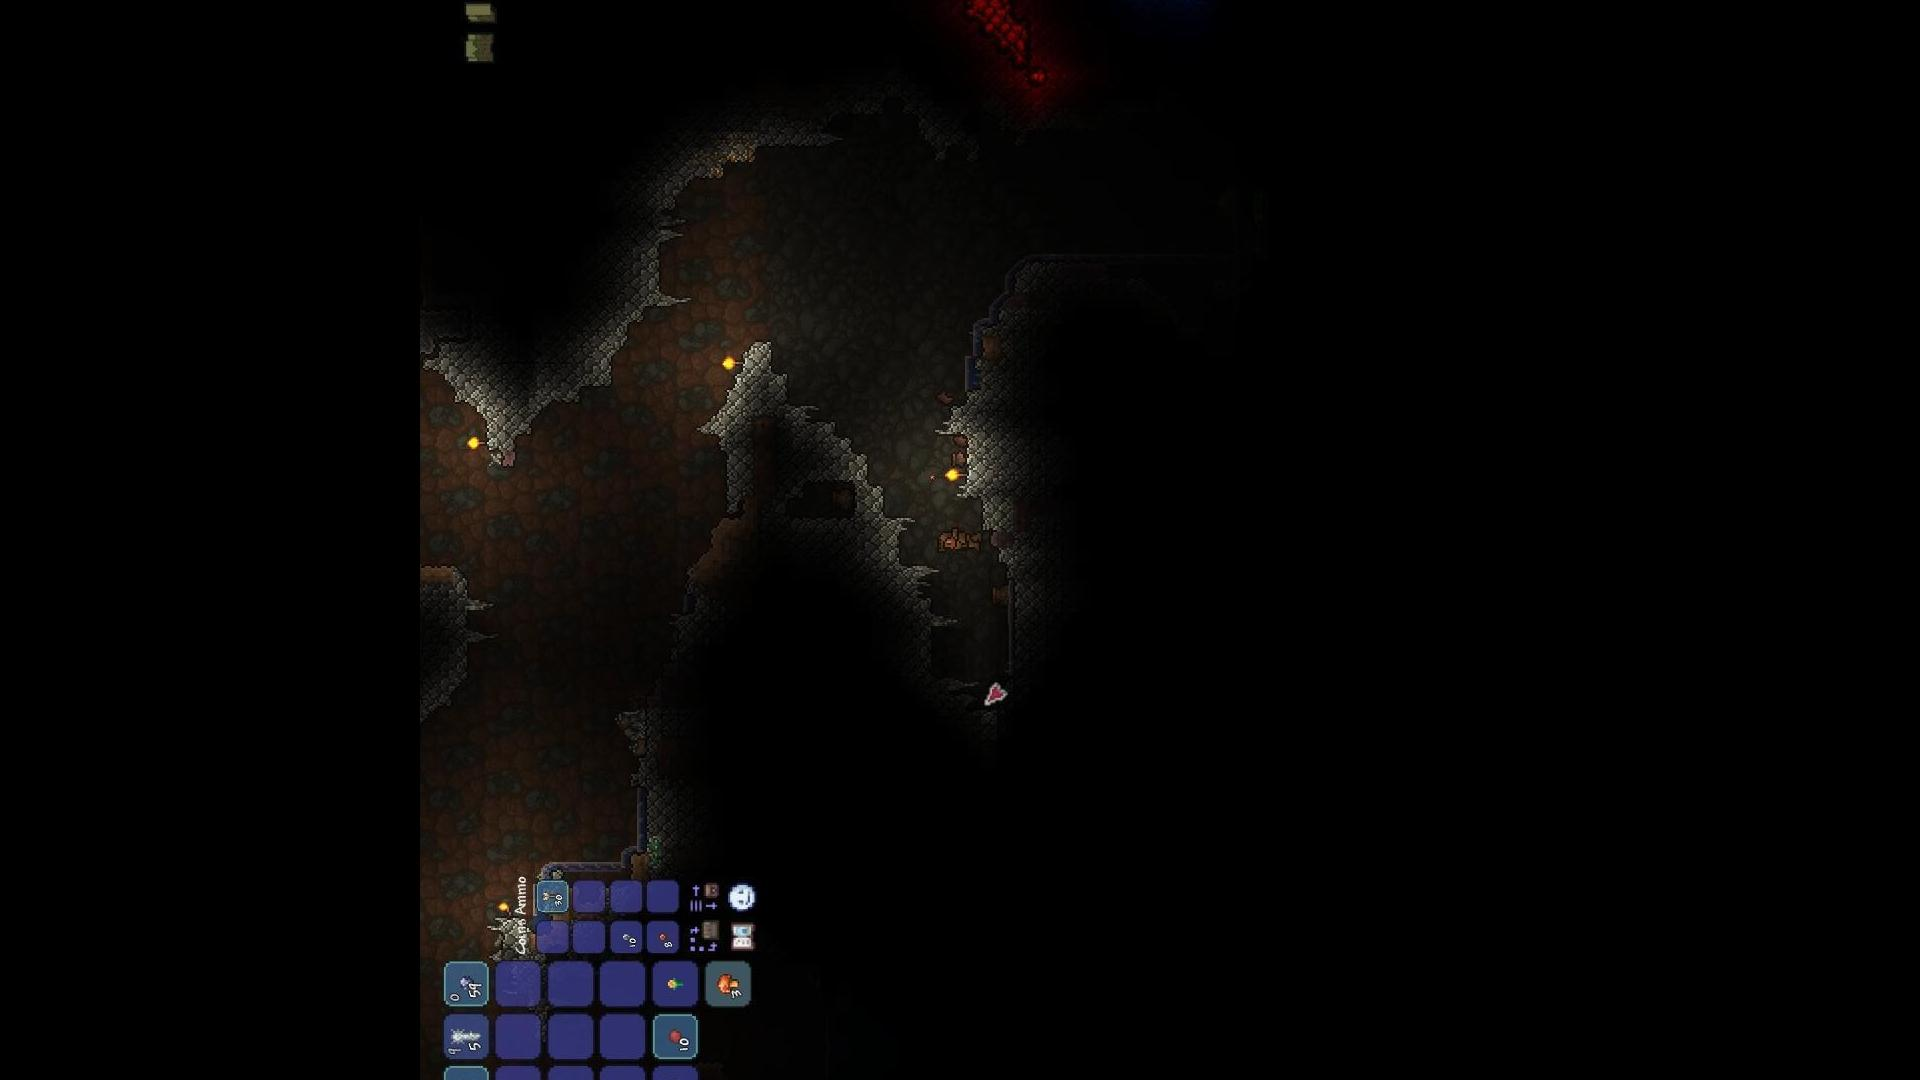arrow: (541, 891, 564, 902)
gel: (667, 1025, 682, 1046)
rope: (448, 1026, 481, 1044)
